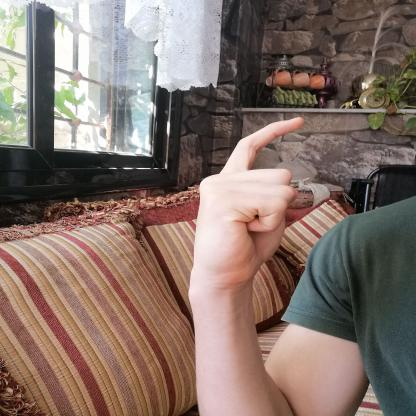RAA: (179, 107, 317, 300)
